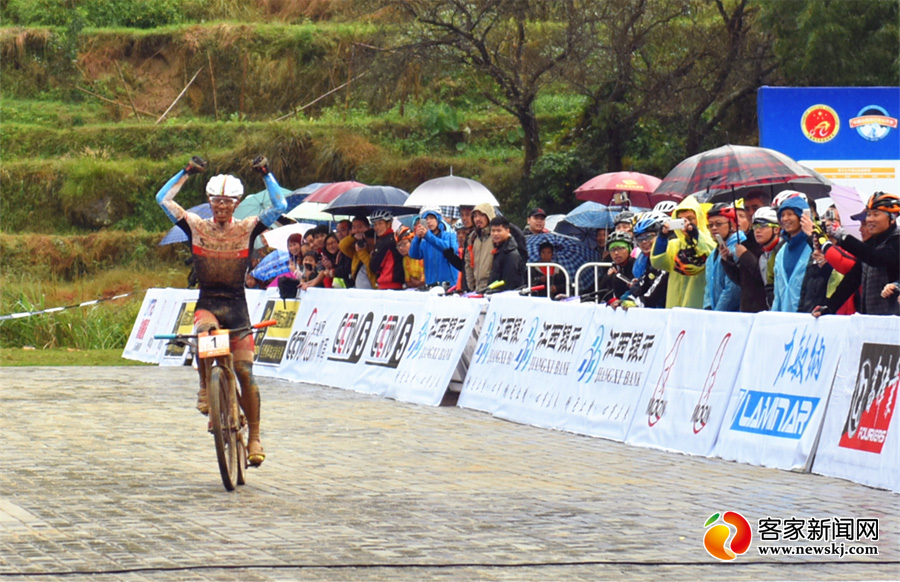handsup: (150, 147, 312, 481)
